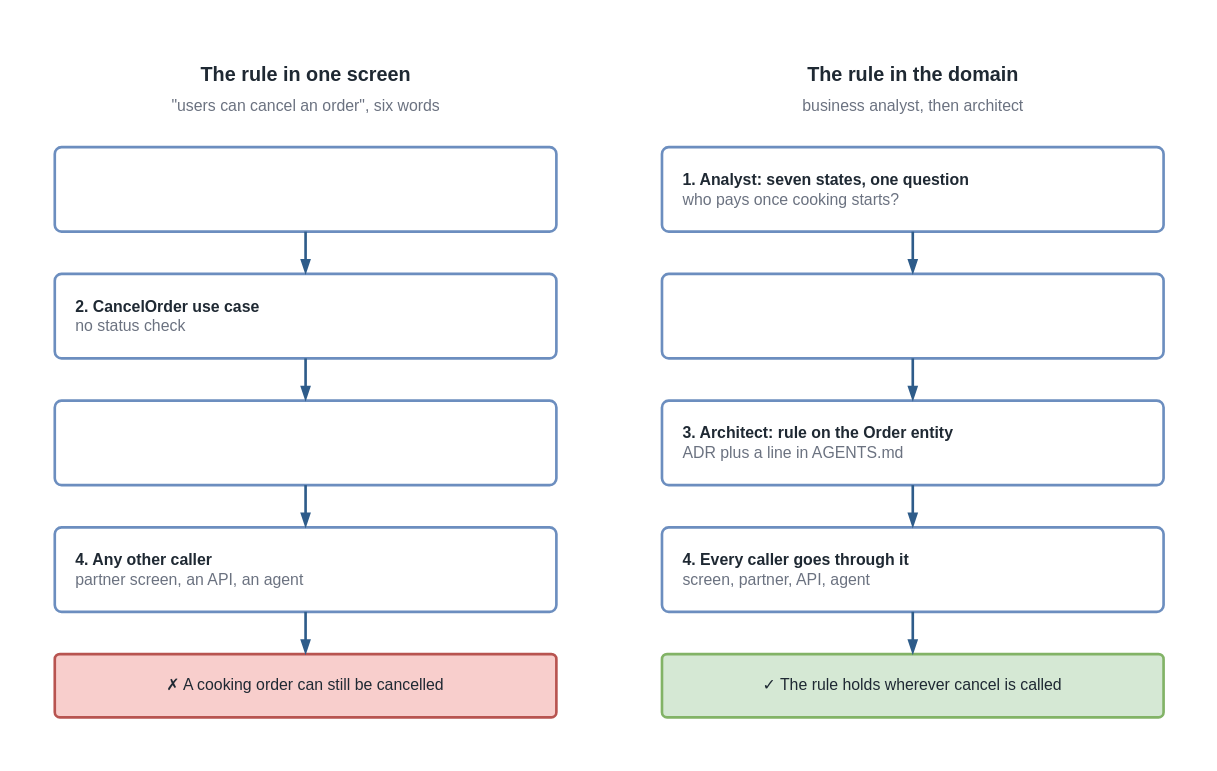
The diagram is 1217 pixels wide and 771 high, and some of its shapes have lost their labels. Each missing label, with the centre of its shape:
1. OrderTrackingState.canCancel placed or confirmed only: point (305, 188)
2. Answered by a person cancel only before preparing: point (912, 315)
3. OrderRepositoryImpl.cancelOrder any order becomes cancelled: point (305, 442)
